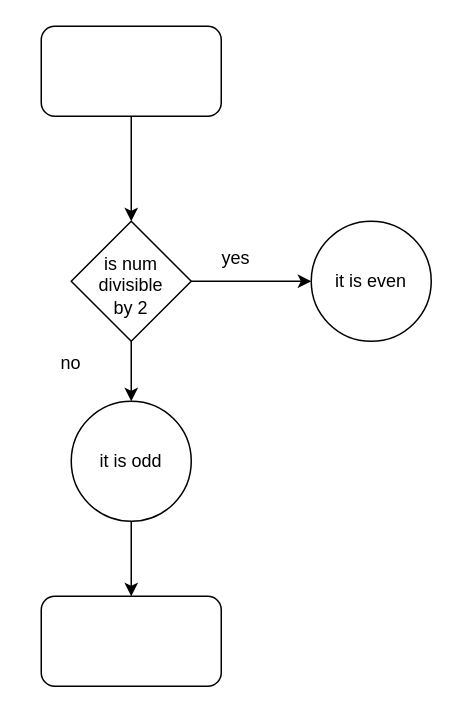
The diagram is 458 pixels wide and 713 high, and some of its shapes have lost their labels. The box of each missing label's shape, as (x1, y1, x2, y2) in pixels:
done: (40, 595, 221, 686)
number: (40, 25, 221, 116)
